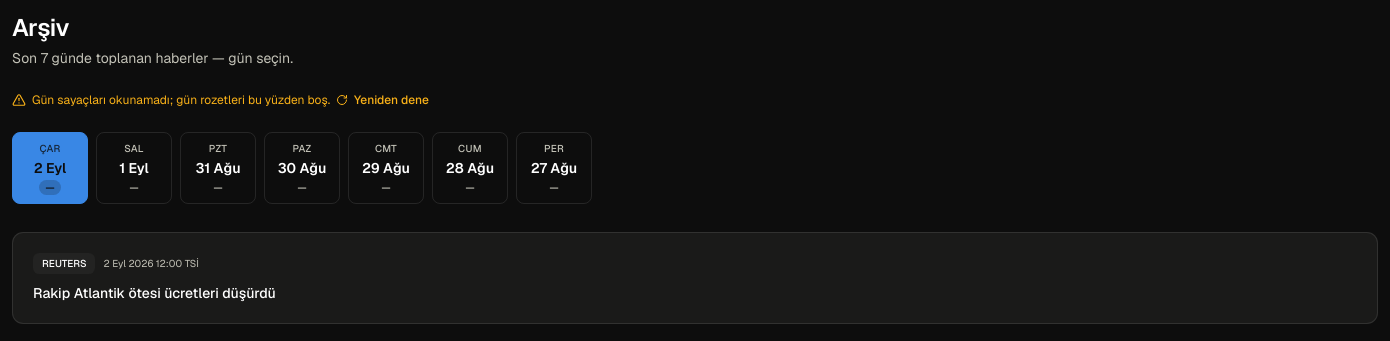
Scenario: ArchiveClient › shows no day counts at all rather than a week of zeroes when the tally fails
The width and height of the screenshot is (1390, 341).
Expected: the text "Gün sayaçları okunamadı; gün rozetleri bu yüzden boş." is shown, top-left (32, 92), bottom-right (330, 108)
Expected: the button "Çar 2 Eyl —" is shown, top-left (12, 132), bottom-right (88, 204)
Click the button "Yeniden dene" at (382, 100), box top-left (336, 92), bottom-right (429, 108)
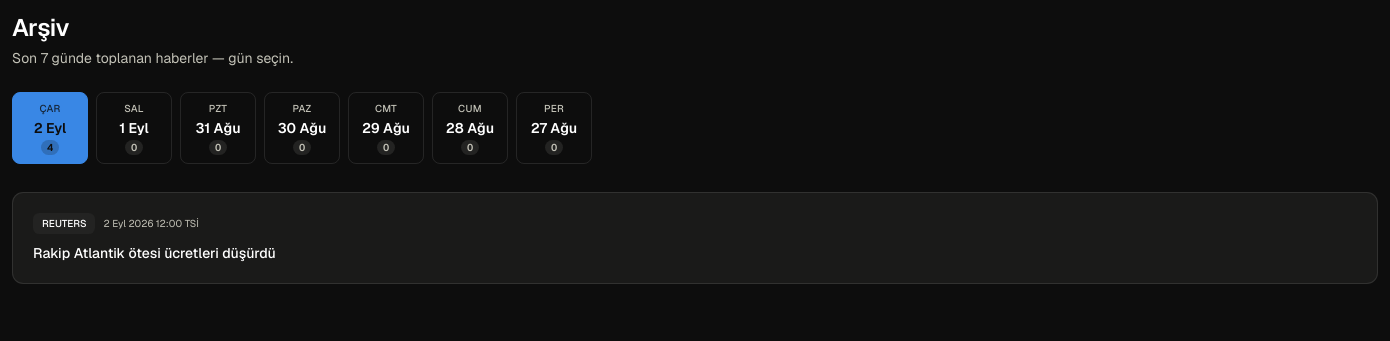
Expected: the button "Çar 2 Eyl 4" is shown, top-left (12, 92), bottom-right (88, 164)
